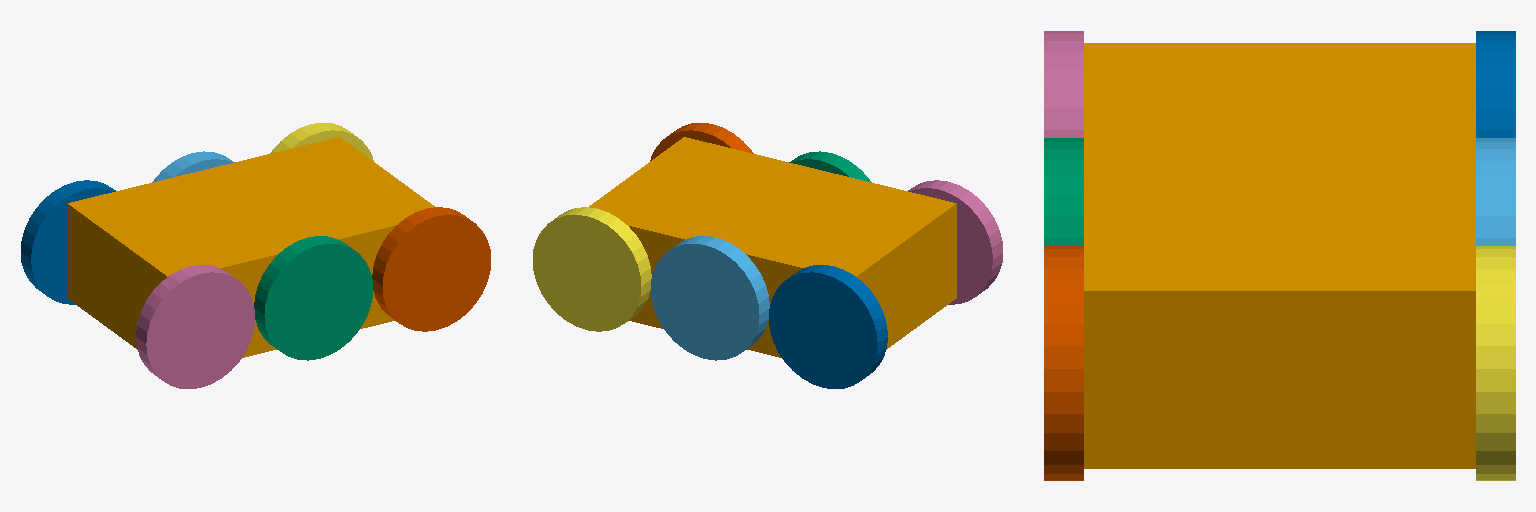
robot.urdf — rrbot:
<?xml version="1.0"?>
<robot name="rrbot" xmlns:xacro="http://www.ros.org/wiki/xacro">
  <!-- base link-->
  <link name="base_link">
    <visual>
      <origin xyz="0.0 0.0 0.0" rpy="0.0 0.0 0.0"/>
      <geometry>
        <box size="1.5 1.0 0.5"/>
      </geometry>
    </visual>
    <collision>
    <origin xyz="0.0 0.0 0.0" rpy="0.0 0.0 0.0"/>
      <geometry>
        <box size="1.5 1.0 0.5"/>
      </geometry>
    </collision>
    <inertial>
      <origin xyz="0 0 0" rpy="0 0 0"/>
       <mass value="1"/>
       <inertia
        ixx="1.0" ixy="0.0" ixz="0.0"
        iyy="1.0" iyz="0.0"
        izz="1.0"/>
    </inertial>
  </link>

  <!-- left joint-->
  <joint name="left_middle_wheel_joint" type="continuous">
   <parent link="base_link"/>
   <child link="left_middle_wheel"/>
   <origin xyz="0.00 0.50 0.0" rpy="-1.570796 0.0 0.0"/>
  </joint>

  <!-- left link -->
  <link name="left_middle_wheel">
    <visual>
      <origin xyz="0.0 0.00 0.05"/>
      <geometry>
        <cylinder radius="0.3" length="0.1"/>
      </geometry>
    </visual>
    <collision>
      <origin xyz="0.0 0.00 0.05"/>
      <geometry>
        <cylinder radius="0.3" length="0.1"/>
      </geometry>
    </collision>
    <inertial>
      <origin xyz="0 0 0" rpy="0 0 0"/>
       <mass value="1"/>
       <inertia
        ixx="1.0" ixy="0.0" ixz="0.0"
        iyy="1.0" iyz="0.0"
        izz="1.0"/>
    </inertial>
  </link>
  
<!-- right joint-->
  <joint name="right_middle_wheel_joint" type="continuous">
   <parent link="base_link"/>
   <child link="right_middle_wheel"/>
   <origin xyz="0.00 -0.5 0" rpy="1.570796 0.0 0.0"/>
  </joint> 

  <!-- right link -->
  <link name="right_middle_wheel">
    <visual>
      <origin xyz="0.0 0.00 0.05"/>
      <geometry>
        <cylinder radius="0.3" length="0.1"/>
      </geometry>
    </visual>
    <collision>
      <origin xyz="0.0 0.00 0.05"/>
      <geometry>
        <cylinder radius="0.3" length="0.1"/>
      </geometry>
    </collision>
    <inertial>
      <origin xyz="0 0 0" rpy="0 0 0"/>
       <mass value="1"/>
       <inertia
        ixx="1.0" ixy="0.0" ixz="0.0"
        iyy="1.0" iyz="0.0"
        izz="1.0"/>
    </inertial>
  </link> 

  <!-- left middle joint -->
  <joint name="left_rear_wheel_joint" type="continuous">
     <parent link="base_link"/>
     <child link="left_rear_wheel"/>
     <origin xyz="0.65 0.50 0.0" rpy="-1.570796 0.0 0.0"/>
  </joint>

 <!-- left middle wheel link -->
  <link name="left_rear_wheel">
    <visual>
      <origin xyz="0.0 0.00 0.05"/>
      <geometry>
        <cylinder radius="0.3" length="0.1"/>
      </geometry>
    </visual>
    <collision>
      <origin xyz="0.0 0.00 0.05"/>
      <geometry>
        <cylinder radius="0.3" length="0.1"/>
      </geometry>
    </collision>
    <inertial>
      <origin xyz="0 0 0" rpy="0 0 0"/>
       <mass value="1"/>
       <inertia
        ixx="1.0" ixy="0.0" ixz="0.0"
        iyy="1.0" iyz="0.0"
        izz="1.0"/>
    </inertial>
  </link>
  

<!-- left rear joint -->
  <joint name="left_front_wheel_joint" type="continuous">
   <parent link="base_link"/>
   <child link="left_front_wheel"/>
   <origin xyz="-0.65 0.50 0.0" rpy="-1.570796 0.0 0.0"/>
  </joint>

<!-- left rear wheel -->
    <link name="left_front_wheel">
    <visual>
      <origin xyz="0.0 0.00 0.05"/>
      <geometry>
        <cylinder radius="0.3" length="0.1"/>
      </geometry>
    </visual>
    <collision>
      <origin xyz="0.0 0.00 0.05"/>
      <geometry>
        <cylinder radius="0.3" length="0.1"/>
      </geometry>
    </collision>
    <inertial>
      <origin xyz="0 0 0" rpy="0 0 0"/>
       <mass value="1"/>
       <inertia
        ixx="1.0" ixy="0.0" ixz="0.0"
        iyy="1.0" iyz="0.0"
        izz="1.0"/>
    </inertial>
  </link>

  <!-- right middle joint -->
  <joint name="right_rear_wheel_joint" type="continuous">
   <parent link="base_link"/>
   <child link="right_rear_wheel"/>
   <origin xyz="0.65 -0.5 0" rpy="1.570796 0.0 0.0"/>
  </joint> 

  <!-- right middle wheel link -->
  <link name="right_rear_wheel">
    <visual>
      <origin xyz="0.0 0.00 0.05"/>
      <geometry>
        <cylinder radius="0.3" length="0.1"/>
      </geometry>
    </visual>
    <collision>
      <origin xyz="0.0 0.00 0.05"/>
      <geometry>
        <cylinder radius="0.3" length="0.1"/>
      </geometry>
    </collision>
    <inertial>
      <origin xyz="0 0 0" rpy="0 0 0"/>
       <mass value="1"/>
       <inertia
        ixx="1.0" ixy="0.0" ixz="0.0"
        iyy="1.0" iyz="0.0"
        izz="1.0"/>
    </inertial>
  </link>

<!-- right rear joint -->
<joint name="right_front_wheel_joint" type="continuous">
   <parent link="base_link"/>
   <child link="right_front_wheel"/>
   <origin xyz="-0.65 -0.5 0" rpy="1.570796 0.0 0.0"/>
</joint> 

<!--right rear wheel -->
<link name="right_front_wheel">
    <visual>
      <origin xyz="0.0 0.00 0.05"/>
      <geometry>
        <cylinder radius="0.3" length="0.1"/>
      </geometry>
    </visual>
    <collision>
      <origin xyz="0.0 0.00 0.05"/>
      <geometry>
        <cylinder radius="0.3" length="0.1"/>
      </geometry>
    </collision>
    <inertial>
      <origin xyz="0 0 0" rpy="0 0 0"/>
       <mass value="1"/>
       <inertia
        ixx="1.0" ixy="0.0" ixz="0.0"
        iyy="1.0" iyz="0.0"
        izz="1.0"/>
    </inertial>
  </link>

    <gazebo reference="base_link">
      <material>Gazebo/Orange</material>
    </gazebo>

    <gazebo reference="left_front_wheel">
      <material>Gazebo/Black</material>
    </gazebo>

    <gazebo reference="left_rear_wheel">
      <material>Gazebo/Black</material>
    </gazebo>
    <gazebo reference="left_middle_wheel">
      <material>Gazebo/Black</material>
    </gazebo>
    <gazebo reference="right_front_wheel">
      <material>Gazebo/Black</material>
    </gazebo>
    <gazebo reference="right_rear_wheel">
      <material>Gazebo/Black</material>
    </gazebo>
    <gazebo reference="right_middle_wheel">
      <material>Gazebo/Black</material>
    </gazebo>
   

   <!-- actuator 1 -->
    <ros2_control name="actuator_front_left" type="actuator">
      <hardware>
       <class>uwrt_mars_rover_drivetrain_hw/UWRTMarsRoverDrivetrainHardwareReal</class>
       <param name="can_interface"> 0 </param>
       <param name="can_index"> 0 </param>
      </hardware>
      <joint name="left_front_wheel_joint">
        <command_interface name="velocity"/>
        <state_interface name="velocity"/>
      </joint>
      <transmission name = "transmission_front_left">
        <plugin>transmission_interface/SimpleTransmission</plugin>
        <param name="mechanical_reduction">0.43</param>
      </transmission>
    </ros2_control>

    <!-- actuator 2-->
    <ros2_control name="actuator_front_right" type="actuator">
      <hardware>
       <plugin>uwrt_mars_rover_drivetrain_hw/UWRTMarsRoverDrivetrainHardwareReal</plugin>
       <param name="can_interface"> 1 </param>
       <param name="can_index"> 1 </param>
      </hardware>
      <joint name="right_front_wheel_joint">
        <command_interface name="velocity"/>
        <state_interface name="velocity"/>
      </joint>
      <transmission name = "transmission_front_right">
        <plugin>transmission_interface/SimpleTransmission</plugin>
        <param name="mechanical_reduction">0.43</param>
      </transmission>
    </ros2_control>  

    <!-- actuator 3-->
    <ros2_control name="actuator_rear_left" type="actuator">
      <hardware>
       <plugin>uwrt_mars_rover_drivetrain_hw/UWRTMarsRoverDrivetrainHardwareReal</plugin>
       <param name="can_interface"> 2 </param>
       <param name="can_index"> 2 </param>
      </hardware>
      <joint name="left_rear_wheel_joint">
        <command_interface name="velocity"/>
        <state_interface name="velocity"/>
      </joint>
      <transmission name = "transmission_rear_left">
        <plugin>transmission_interface/SimpleTransmission</plugin>
        <param name="mechanical_reduction">0.43</param>
      </transmission>
    </ros2_control>  

    <!-- actuator 4-->
    <ros2_control name="actuator_rear_right" type="actuator">
      <hardware>
       <plugin>uwrt_mars_rover_drivetrain_hw/UWRTMarsRoverDrivetrainHardwareReal</plugin>
       <param name="can_interface"> 3 </param>
       <param name="can_index"> 3 </param>
      </hardware>
      <joint name="right_rear_wheel_joint">
        <command_interface name="velocity"/>
        <state_interface name="velocity"/>
      </joint>
      <transmission name = "transmission_rear_right">
        <plugin>transmission_interface/SimpleTransmission</plugin>
        <param name="mechanical_reduction">0.43</param>
      </transmission>
    </ros2_control>

   <!-- actuator 5 -->
    <ros2_control name="actuator_front_left" type="actuator">
      <hardware>
       <plugin>uwrt_mars_rover_drivetrain_hw/UWRTMarsRoverDrivetrainHardwareReal</plugin>
       <param name="can_interface"> 0 </param>
       <param name="can_index"> 0 </param>
      </hardware>
      <joint name="left_middle_wheel_joint">
        <command_interface name="velocity"/>
        <state_interface name="velocity"/>
      </joint>
      <transmission name = "transmission_front_left">
        <plugin>transmission_interface/SimpleTransmission</plugin>
        <param name="mechanical_reduction">0.43</param>
      </transmission>
    </ros2_control>

    <!-- actuator 6 -->
    <ros2_control name="actuator_front_right" type="actuator">
      <hardware>
       <plugin>uwrt_mars_rover_drivetrain_hw/UWRTMarsRoverDrivetrainHardwareReal</plugin>
       <param name="can_interface"> 1 </param>
       <param name="can_index"> 1 </param>
      </hardware>
      <joint name="right_middle_wheel_joint">
        <command_interface name="velocity"/>
        <state_interface name="velocity"/>
      </joint>
      <transmission name = "transmission_front_right">
        <plugin>transmission_interface/SimpleTransmission</plugin>
        <param name="mechanical_reduction">0.43</param>
      </transmission>
    </ros2_control> 

</robot>

--- Facts derived from the render (not from the file) ---
3 views of the same robot in one strip: view 1: azimuth 30°, elevation 25°; view 2: azimuth 150°, elevation 25°; view 3: azimuth 270°, elevation 25° (orthographic).
Robot: rrbot — 7 links, 6 joints (6 continuous); root link base_link; default pose: all joints at 0.
Links seen in each view (by area): view 1: base_link, right_front_wheel, right_middle_wheel, right_rear_wheel, left_front_wheel, left_rear_wheel, left_middle_wheel; view 2: base_link, left_front_wheel, left_middle_wheel, left_rear_wheel, right_front_wheel, right_rear_wheel, right_middle_wheel; view 3: base_link, left_rear_wheel, right_rear_wheel, left_middle_wheel, right_middle_wheel, left_front_wheel, right_front_wheel.
Link boxes in pixels (x1,y1,x2,y2): base_link: (67, 137, 434, 357); right_front_wheel: (136, 265, 254, 388); right_middle_wheel: (254, 236, 372, 360); right_rear_wheel: (372, 207, 490, 331); left_front_wheel: (21, 180, 115, 304); left_rear_wheel: (270, 123, 373, 160); left_middle_wheel: (152, 151, 234, 182); base_link: (589, 137, 956, 357); left_front_wheel: (769, 265, 887, 388); left_middle_wheel: (651, 236, 769, 360); left_rear_wheel: (533, 207, 651, 331); right_front_wheel: (908, 180, 1002, 304); right_rear_wheel: (650, 123, 753, 160); right_middle_wheel: (789, 151, 871, 182); base_link: (1084, 43, 1475, 468); left_rear_wheel: (1476, 246, 1515, 480); right_rear_wheel: (1044, 246, 1083, 480); left_middle_wheel: (1476, 138, 1515, 245); right_middle_wheel: (1044, 138, 1083, 245); left_front_wheel: (1476, 31, 1515, 137); right_front_wheel: (1044, 31, 1083, 137).
Bounding box of the posed robot: 1.9 × 1.2 × 0.6 m (x, y, z).
Geometry: primitives only (box / cylinder / sphere), no mesh files.